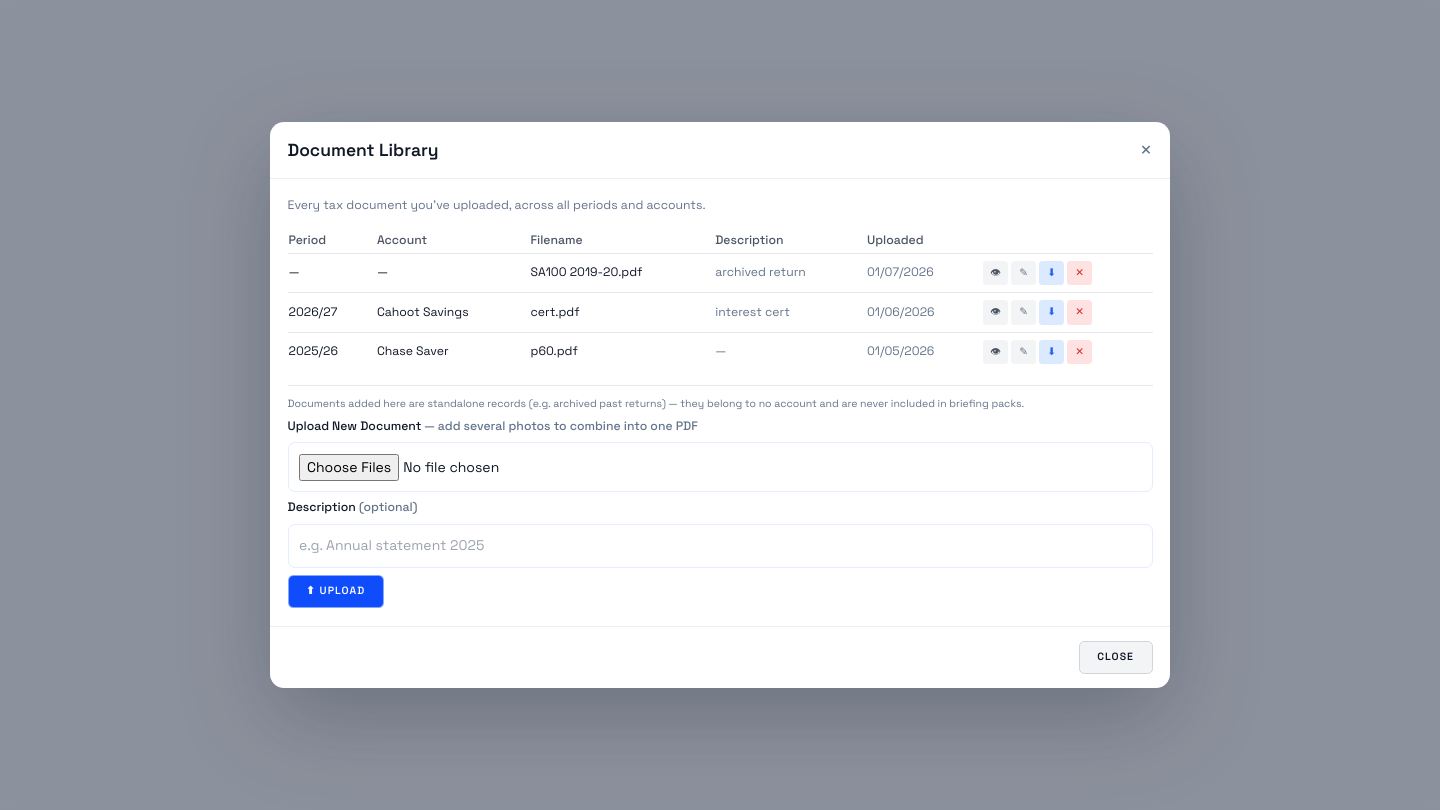
Test case: TaxDocumentLibraryModal › deletes a document and drops its row
Click the button titled "Delete" in the row of "SA100 2019-20.pdf". click: (1080, 273)
box: [1067,260,1092,285]
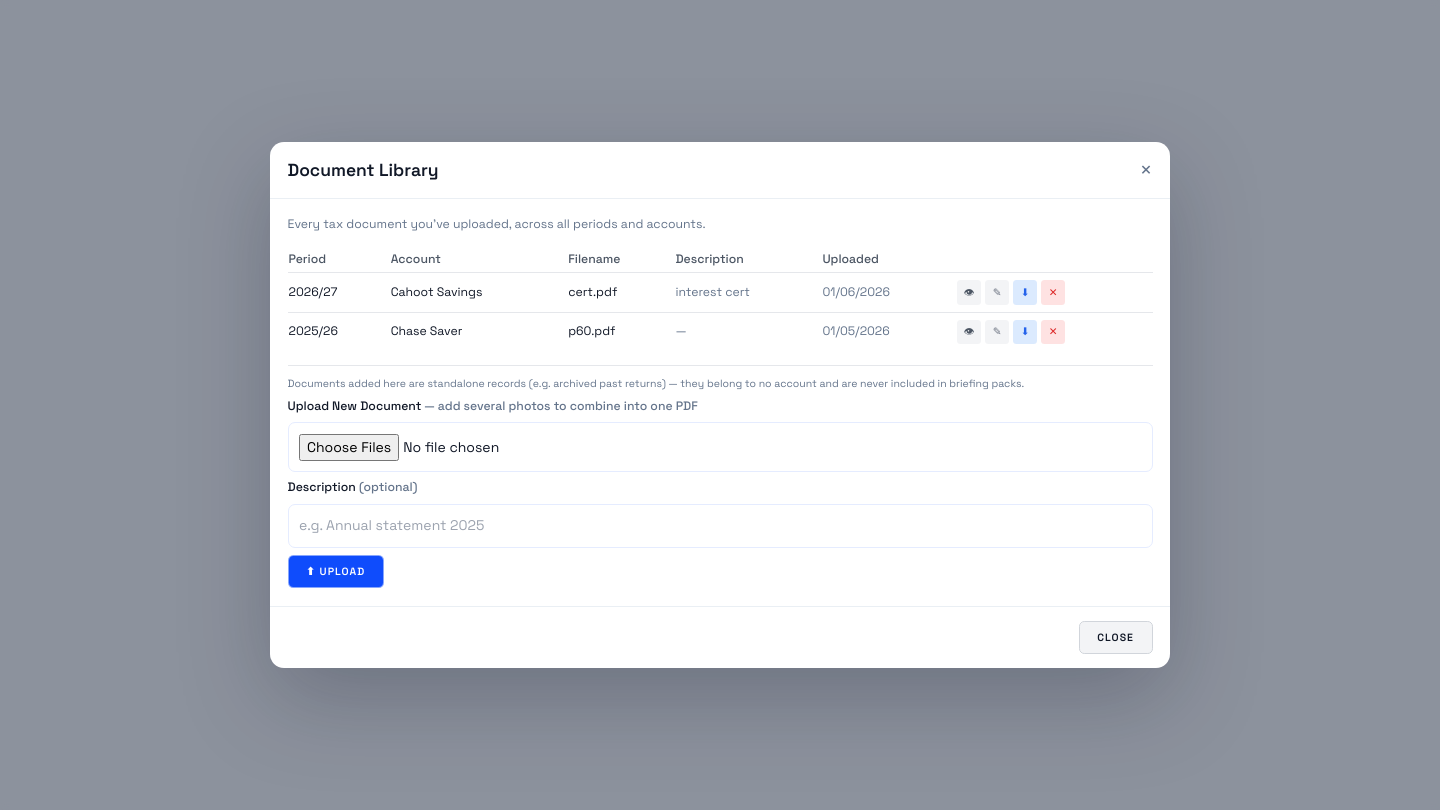
Expected: the text "p60.pdf" is shown, [567,312,674,351]
Expected: the text "SA100 2019-20.pdf" is gone
